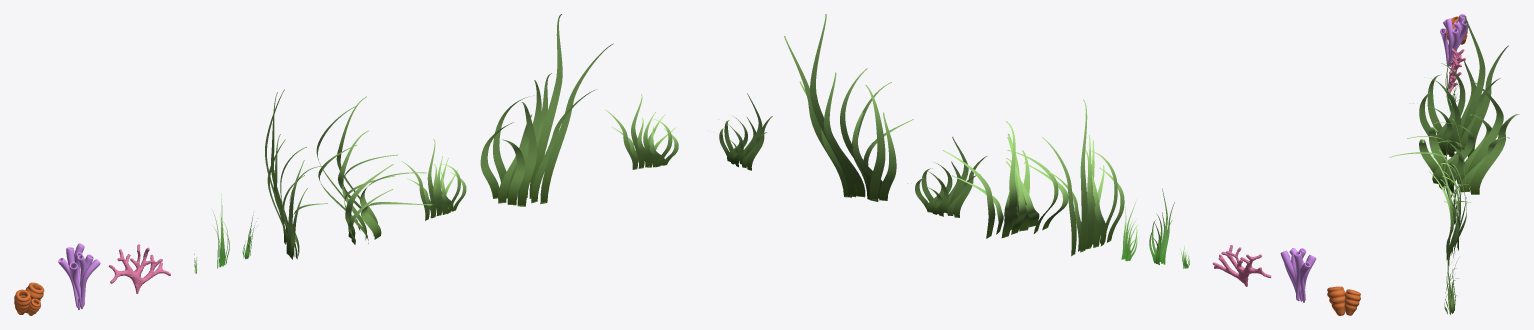
Rendered from giantMantaRayPlantsCoral_edit_for_FBX.fbx.
The picture shows the model from 3 angles, left to right: view 1: azimuth 30°, elevation 25°; view 2: azimuth 150°, elevation 25°; view 3: azimuth 270°, elevation 25°; orthographic projection. The views are drawn at different scales.
Visible parts, largest first — view 1: Plants07, Plants04, Plants05, Plants08, Plants06, CoralPink1, CoralPink2, Plants02; view 2: Plants07, Plants05, Plants04, Plants06, Plants08, CoralPink1, CoralPink2, Plants02, Plants03; view 3: Plants04, Plants05, Plants07, CoralPink1, Plants08, CoralPink2, Plants06, Plants02.
Part boxes in pixels (x1,y1,x2,y2): Plants07: (480, 14, 613, 206); Plants04: (316, 96, 432, 244); Plants05: (265, 89, 327, 259); Plants08: (605, 94, 678, 169); Plants06: (401, 139, 466, 220); CoralPink1: (58, 243, 100, 309); CoralPink2: (108, 244, 170, 293); Plants02: (211, 193, 229, 268); Plants07: (784, 14, 913, 201); Plants05: (1042, 99, 1124, 256); Plants04: (942, 121, 1068, 238); Plants06: (907, 136, 987, 217); Plants08: (708, 93, 772, 170); CoralPink1: (1280, 248, 1316, 302); CoralPink2: (1212, 245, 1271, 286); Plants02: (1149, 188, 1174, 264); Plants03: (1121, 199, 1138, 261); Plants04: (1389, 81, 1519, 194); Plants05: (1410, 16, 1508, 157); Plants07: (1429, 118, 1466, 269); CoralPink1: (1440, 14, 1468, 66); Plants08: (1444, 238, 1460, 315); CoralPink2: (1448, 48, 1465, 92); Plants06: (1442, 142, 1470, 224); Plants02: (1445, 57, 1458, 112).
Size of the model in its own units: 3776 by 1001 by 734.
